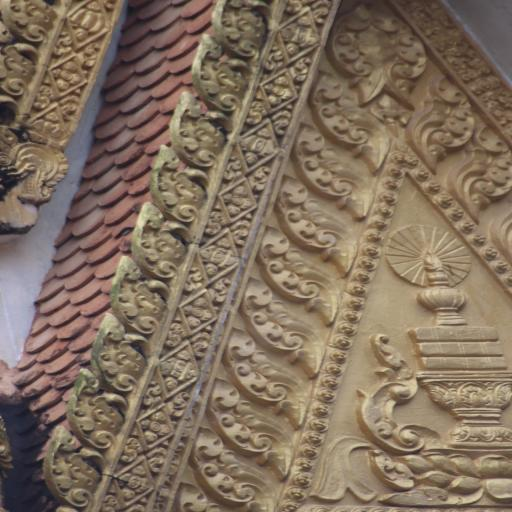lua: (356, 334, 432, 454), (280, 173, 364, 268), (259, 230, 341, 315), (211, 379, 288, 459), (246, 281, 323, 359), (228, 334, 302, 414), (313, 75, 384, 158), (295, 128, 364, 206), (197, 433, 265, 507), (454, 122, 512, 208), (128, 199, 194, 269), (43, 429, 100, 507), (92, 308, 146, 388), (69, 369, 125, 445), (429, 70, 475, 162), (155, 142, 209, 220), (114, 250, 164, 329), (326, 18, 376, 87), (192, 44, 243, 110), (174, 94, 224, 160), (208, 2, 269, 52), (377, 18, 425, 79), (0, 2, 53, 39), (0, 42, 31, 93)
